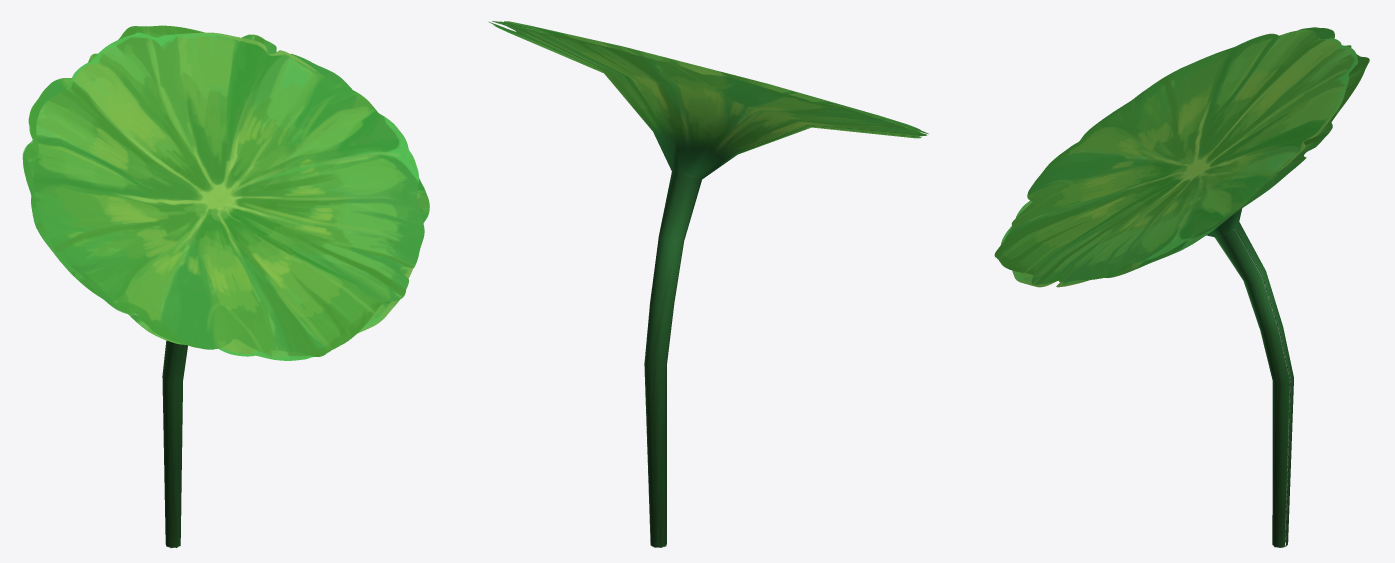
The model's file is SM_LilyLeaf_01.fbx.
3 renders of one model, left to right at view 1: azimuth 30°, elevation 25°; view 2: azimuth 150°, elevation 25°; view 3: azimuth 270°, elevation 25°, orthographic. The views are drawn at different scales.
Parts seen in each view (by area): view 1: pCylinder1; view 2: pCylinder1; view 3: pCylinder1.
Part boxes in pixels (box(x1,y1,x2,y2)): pCylinder1: box(22, 25, 429, 548); pCylinder1: box(488, 21, 928, 547); pCylinder1: box(994, 27, 1369, 547).
Bounding box in the file's own units: 1.91 × 2.22 × 1.65.
